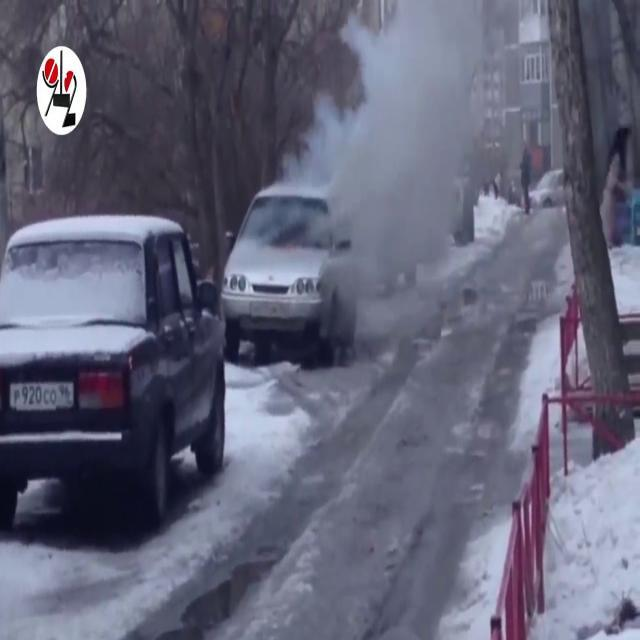Smoke: (280, 0, 510, 350)
